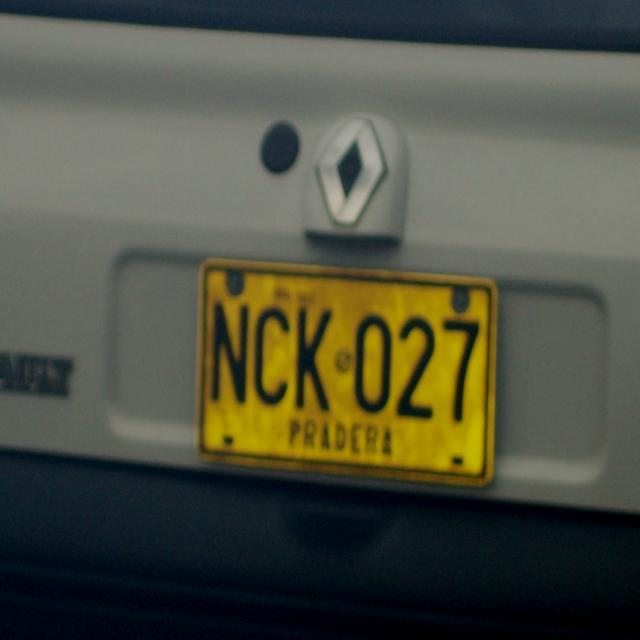placa: (194, 244, 498, 492)
